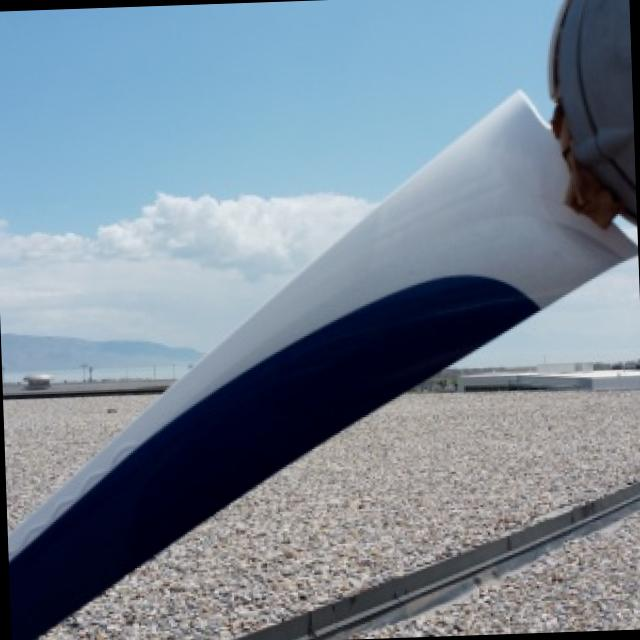healthy: (469, 258, 640, 360)
